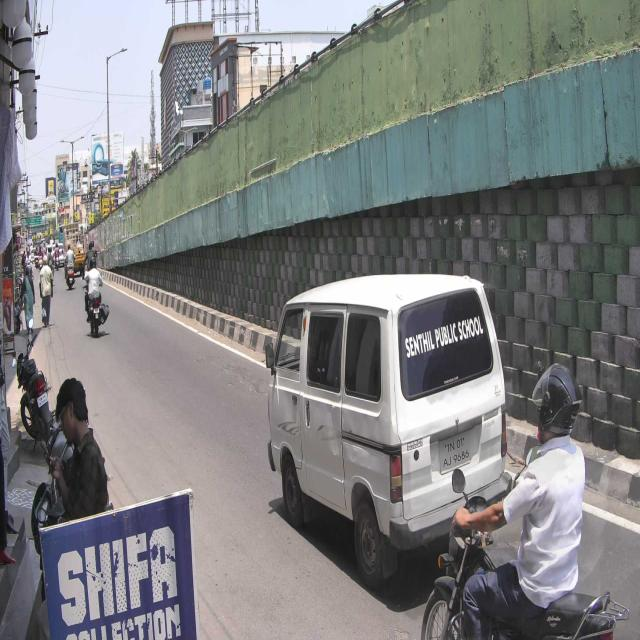single_rider: (420, 361, 629, 640)
